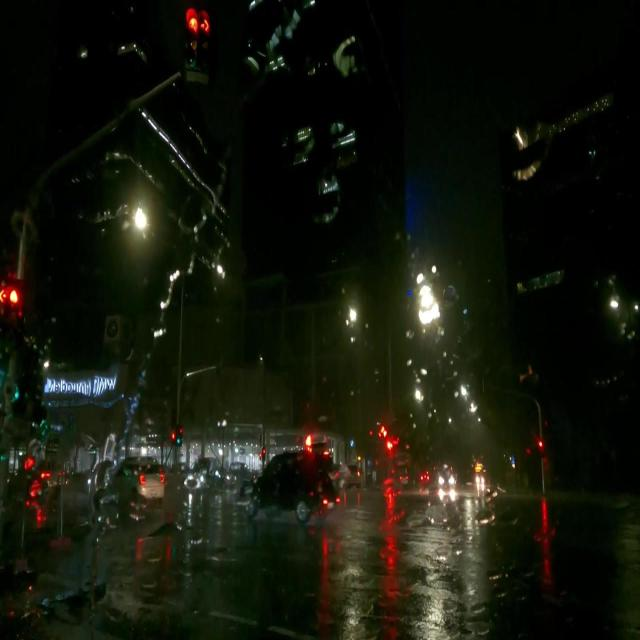Car: (235, 449, 340, 523)
